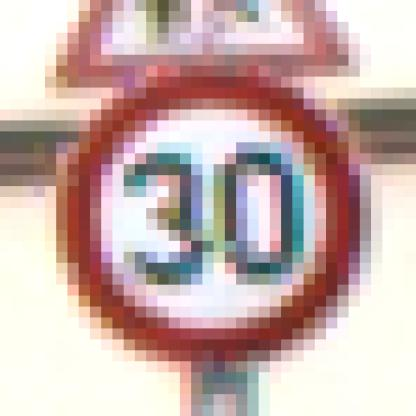Speed Limit 30: (59, 77, 354, 355)
